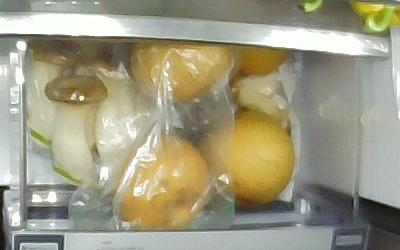pear: (197, 109, 293, 206), (234, 44, 286, 75)
pear_vinyl: (115, 136, 209, 230), (128, 39, 231, 102)
